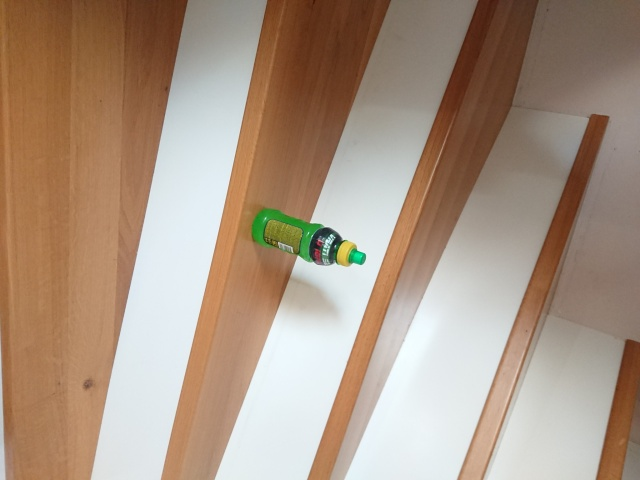Vindi Iso Sport Lemon-Grapefruit 500mL: (249, 206, 368, 269)
